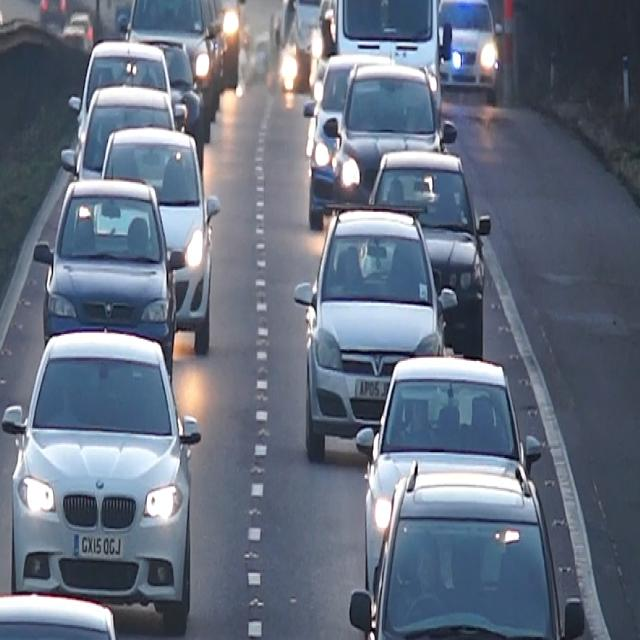Autre: (72, 535, 121, 556), (354, 378, 390, 397)
